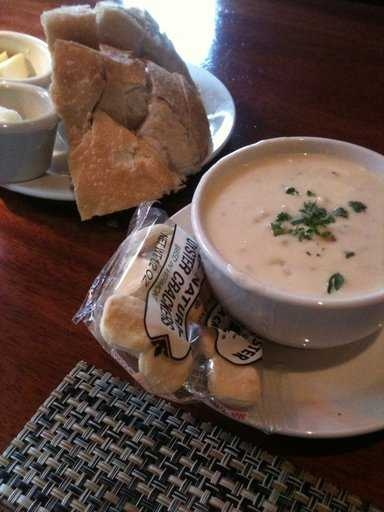soup: (211, 141, 378, 295)
